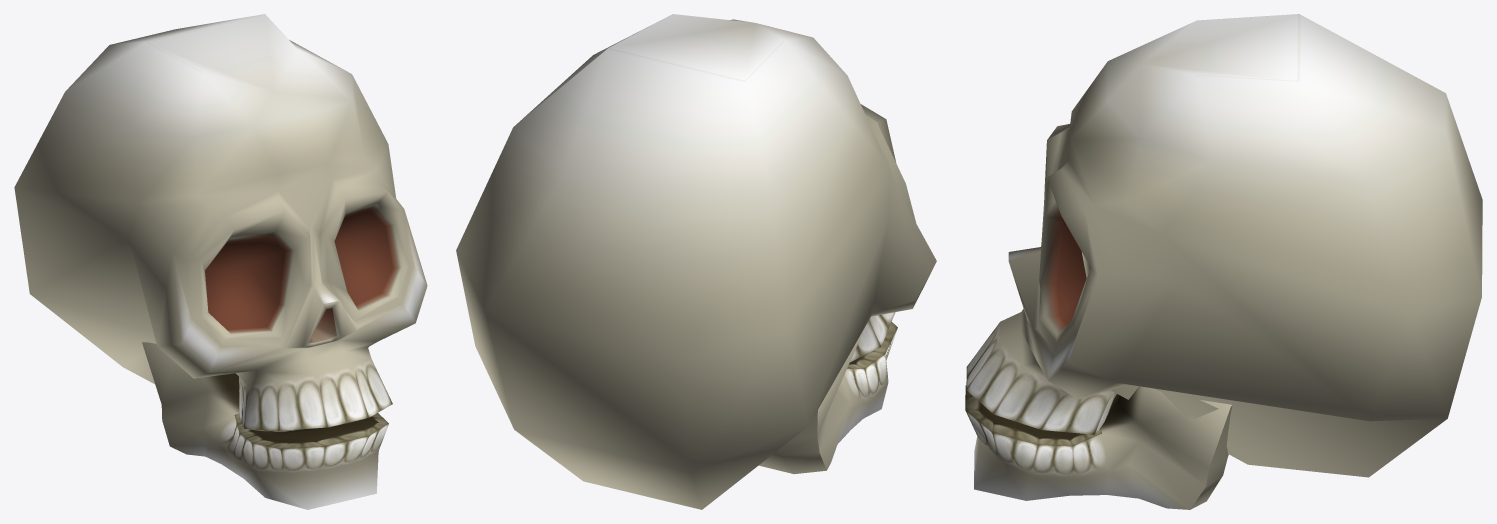
File: Object_Skull.FBX
3 views of the same model, side by side, from view 1: azimuth 30°, elevation 25°; view 2: azimuth 150°, elevation 25°; view 3: azimuth 270°, elevation 25° (orthographic). The views are drawn at different scales.
Parts seen in each view (by area): view 1: Skull; view 2: Skull; view 3: Skull.
Boxes of the visible parts, x1,y1,x2,y2 form: Skull: (14, 14, 427, 509); Skull: (456, 14, 936, 509); Skull: (965, 14, 1482, 509).
Size of the model in its own units: 17.34 by 21.29 by 23.45.
